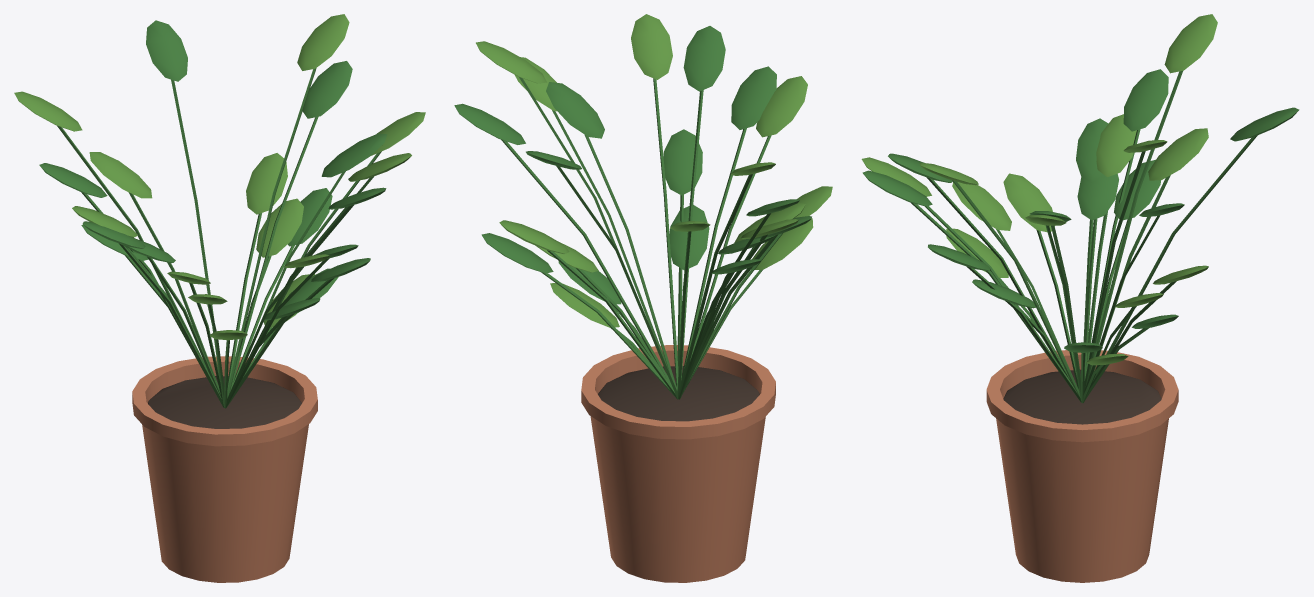
File: floor_plant_2.glb
3 renders of one model, left to right at view 1: azimuth 30°, elevation 25°; view 2: azimuth 150°, elevation 25°; view 3: azimuth 270°, elevation 25°, orthographic. The views are drawn at different scales.
Visible parts, largest first — view 1: Pot, Leaves, Leaves light, Soil; view 2: Pot, Leaves, Leaves light, Soil; view 3: Pot, Leaves, Leaves light, Soil.
Boxes of the visible parts, bbox=[...] form: Pot: bbox=[132, 356, 317, 582]; Leaves: bbox=[39, 20, 387, 408]; Leaves light: bbox=[14, 14, 425, 340]; Soil: bbox=[148, 376, 301, 428]; Pot: bbox=[581, 345, 775, 582]; Leaves: bbox=[454, 26, 811, 399]; Leaves light: bbox=[476, 14, 832, 327]; Soil: bbox=[598, 366, 759, 421]; Pot: bbox=[986, 350, 1178, 582]; Leaves: bbox=[862, 69, 1299, 403]; Leaves light: bbox=[861, 14, 1217, 365]; Soil: bbox=[1003, 369, 1161, 424].
Size of the model in its own units: 0.8795 by 1.22 by 0.9854.
